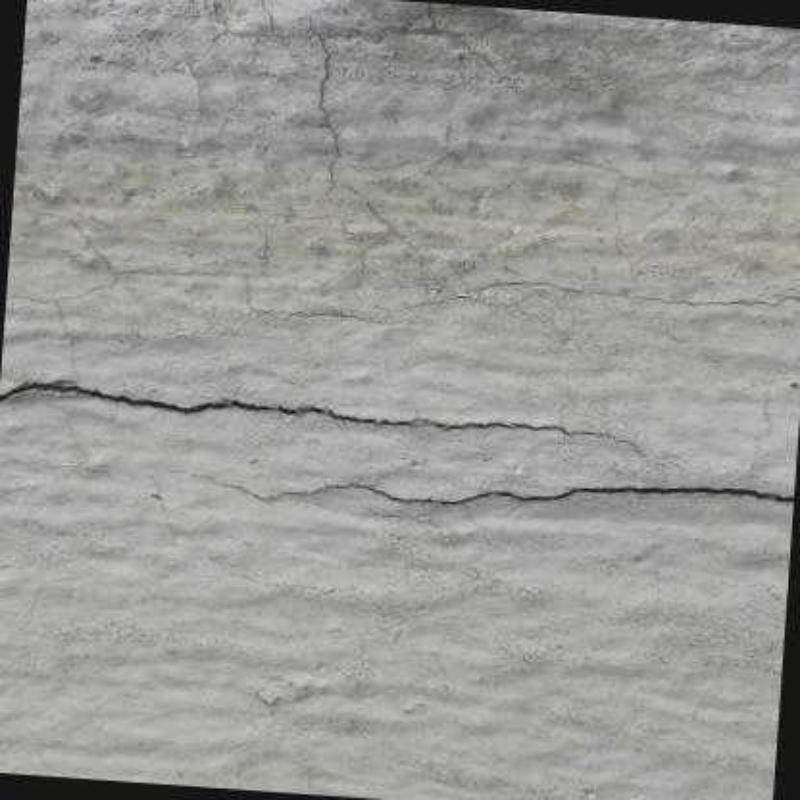pothole: (8, 210, 447, 369), (1, 379, 592, 436), (216, 483, 796, 507), (450, 281, 798, 308), (315, 33, 340, 187)
